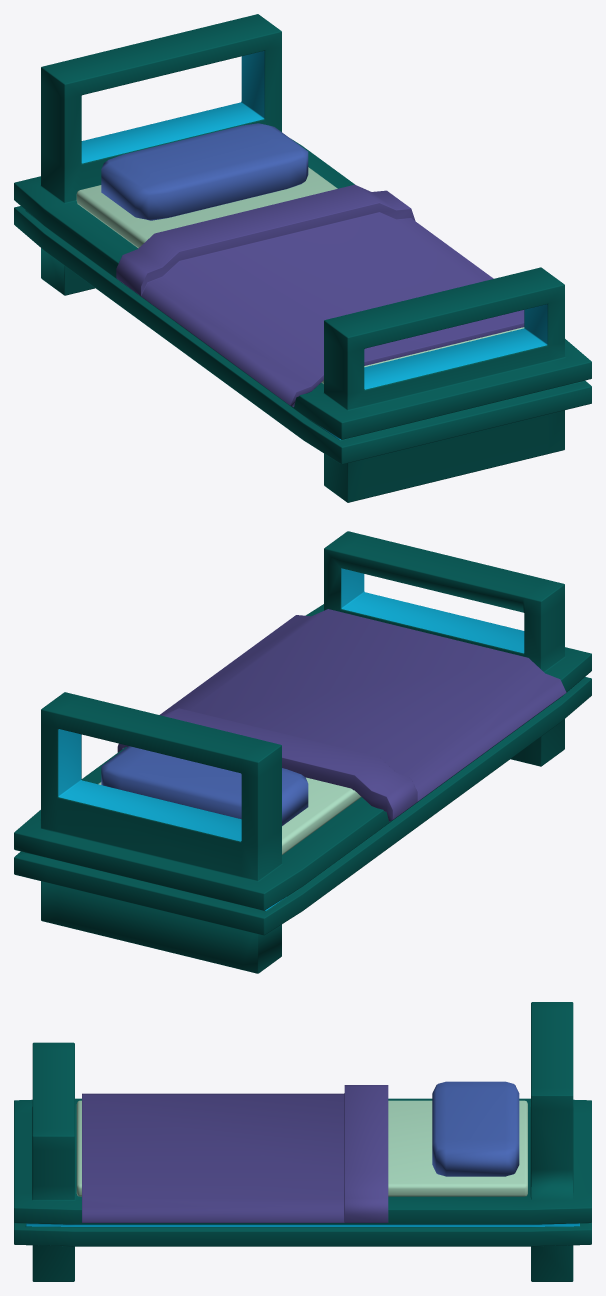
Rendered from SM_Bed.fbx.
3 renders of one model, top to bottom at view 1: azimuth 30°, elevation 25°; view 2: azimuth 150°, elevation 25°; view 3: azimuth 270°, elevation 25°, orthographic. The views are drawn at different scales.
Visible parts, largest first — view 1: SM_Bed; view 2: SM_Bed; view 3: SM_Bed.
Boxes of the visible parts, x1=… form: SM_Bed: x1=14, y1=14, x2=591, y2=502; SM_Bed: x1=14, y1=531, x2=591, y2=973; SM_Bed: x1=14, y1=1002, x2=591, y2=1281.
Size of the model in its own units: 92.21 by 190 by 67.88.
1 material, 1 textured.
